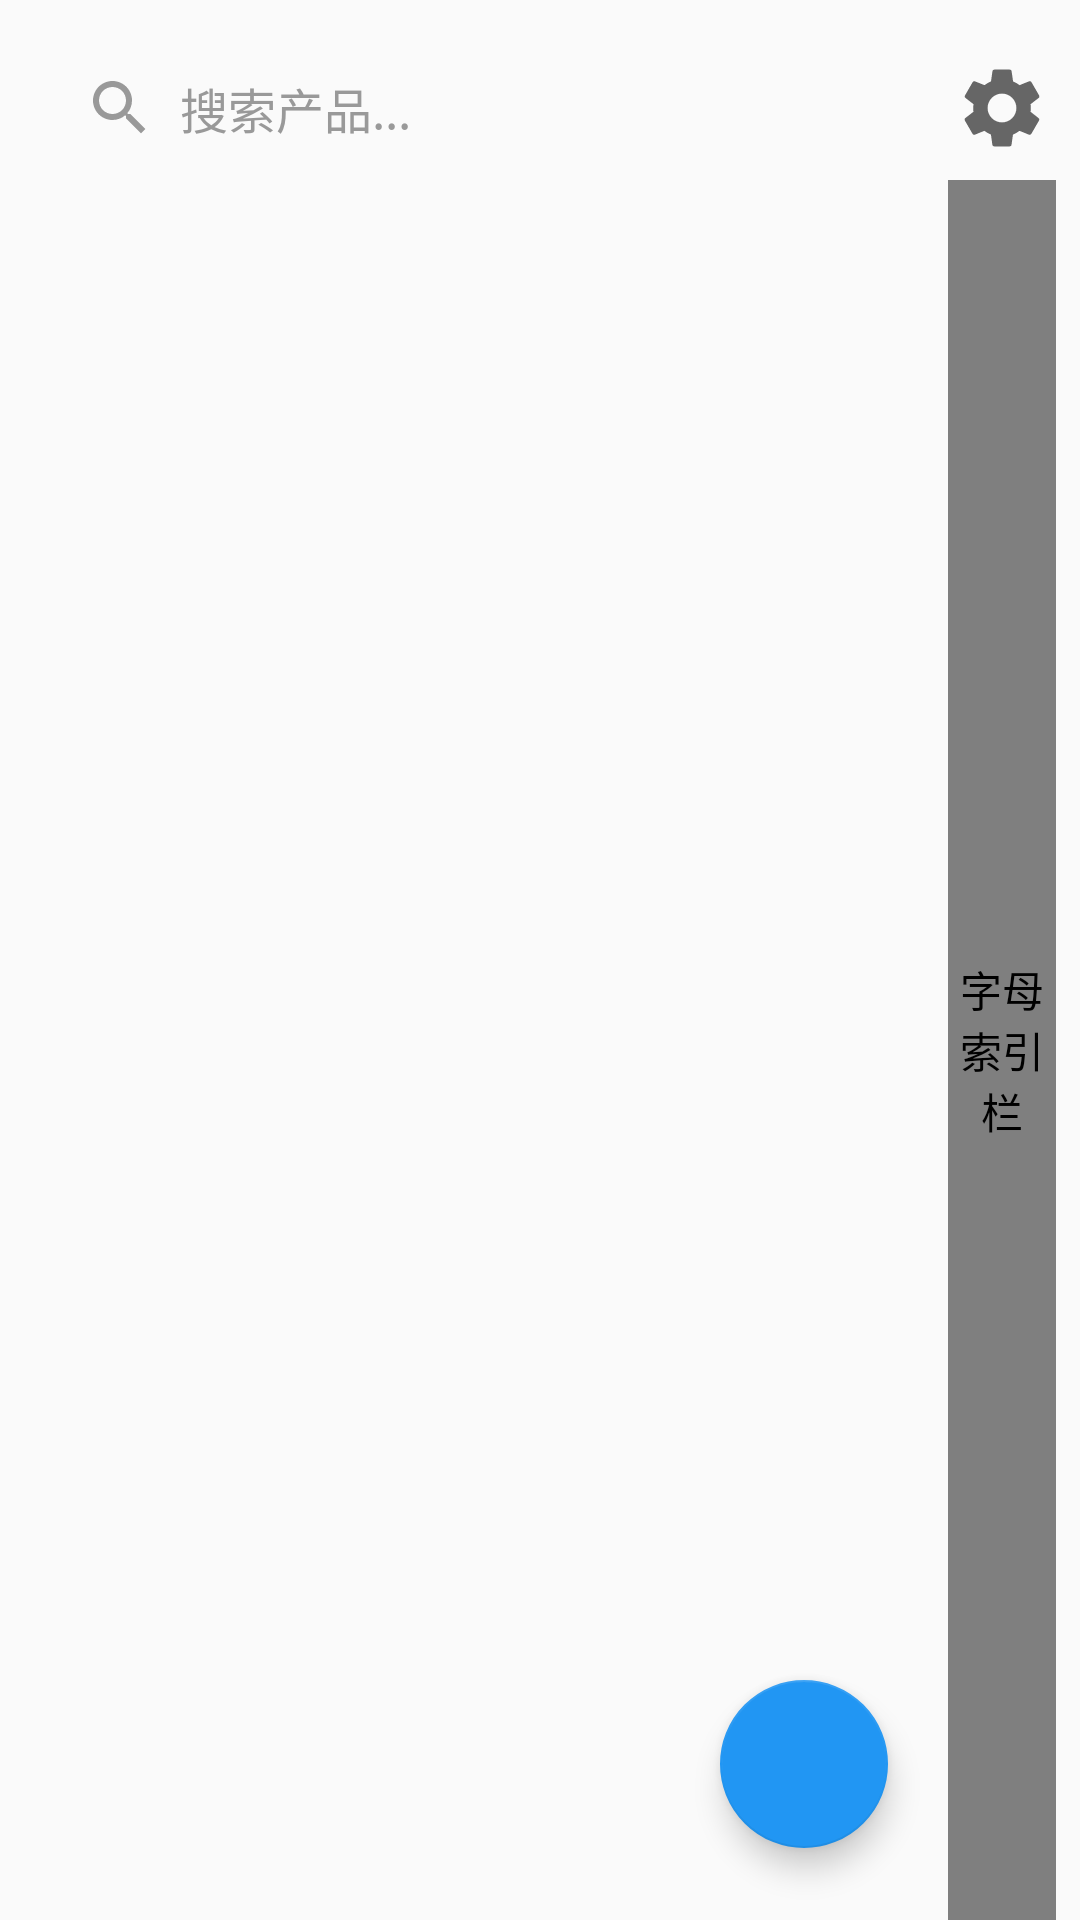

Point at icon controls on the screen. Image size 1080w x 1920h, points as (x,y).
设置: (1002,108)
